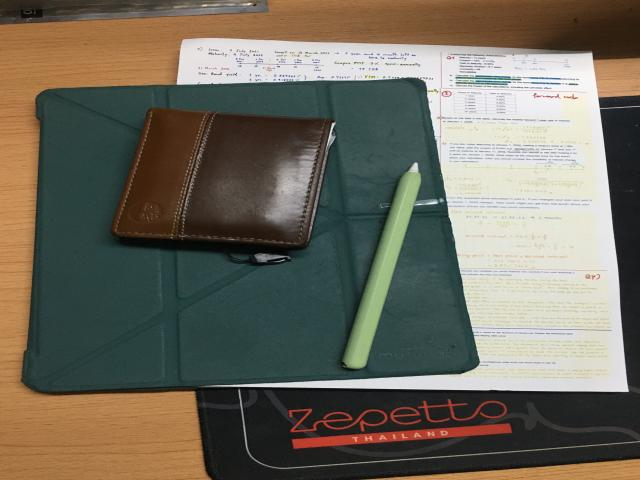Wallet: (112, 108, 335, 248)
paper: (148, 38, 627, 391)
